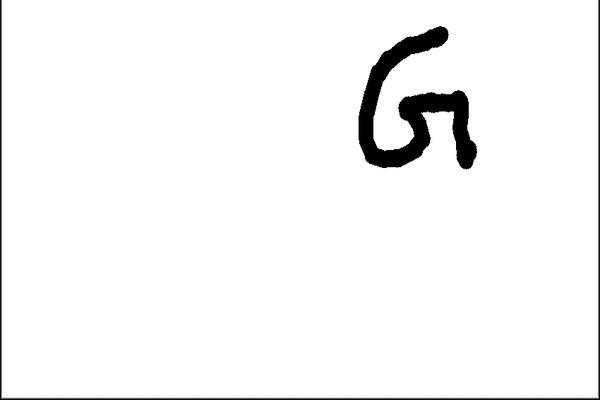G: (354, 22, 487, 185)
